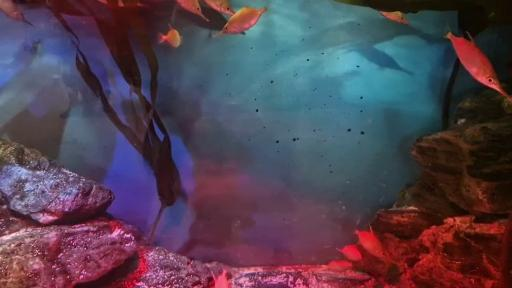Fish: (445, 31, 511, 100), (213, 6, 267, 37), (0, 0, 33, 26), (355, 231, 385, 258), (176, 0, 209, 21), (158, 24, 182, 48), (203, 0, 234, 15), (336, 245, 362, 261), (379, 11, 408, 24), (214, 270, 230, 287), (328, 260, 352, 271), (507, 58, 511, 76), (97, 0, 107, 4)
